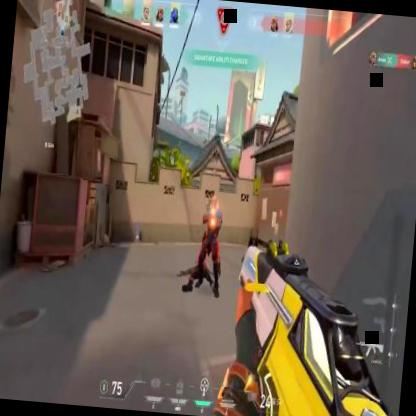enemy: (193, 191, 229, 298)
enemy_head: (210, 195, 218, 211)
